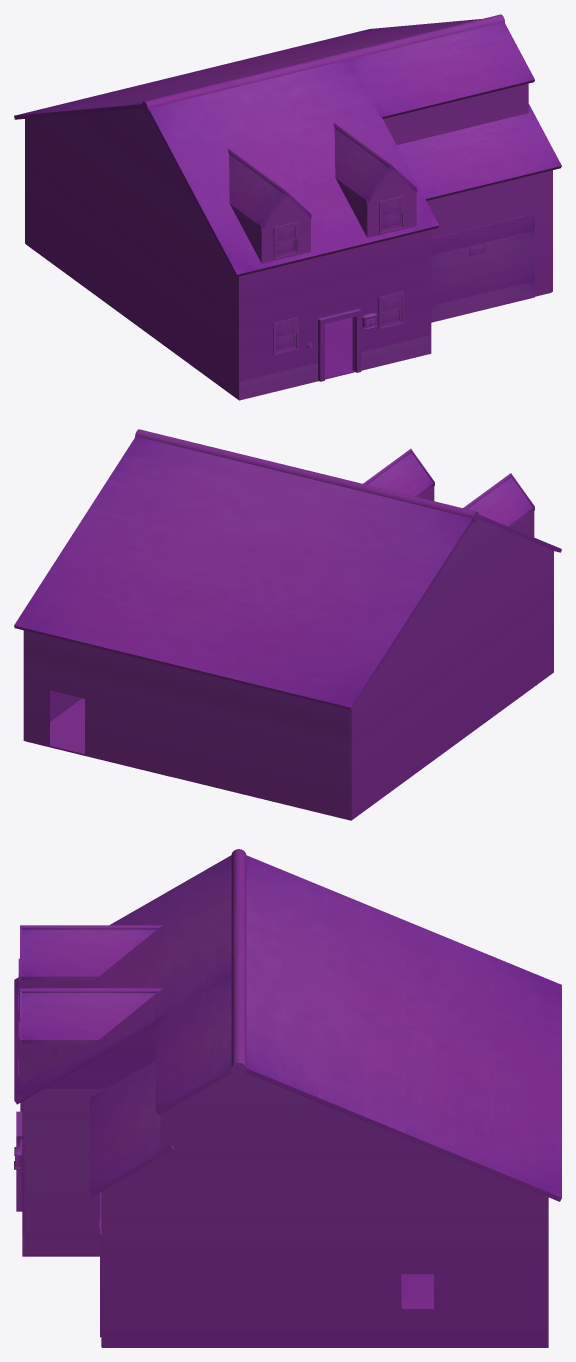
The model's file is fachada.obj.
3 views of the same model, one above another, from view 1: azimuth 30°, elevation 25°; view 2: azimuth 150°, elevation 25°; view 3: azimuth 270°, elevation 25° (orthographic). The views are drawn at different scales.
Visible parts, largest first — view 1: casa:casa:polySurface7344polySurface7697; view 2: casa:casa:polySurface7344polySurface7697; view 3: casa:casa:polySurface7344polySurface7697.
Part boxes in pixels (bbox=[...]): casa:casa:polySurface7344polySurface7697: bbox=[14, 14, 561, 400]; casa:casa:polySurface7344polySurface7697: bbox=[14, 429, 561, 820]; casa:casa:polySurface7344polySurface7697: bbox=[14, 849, 561, 1347].
Bounding box in the file's own units: 21.25 × 13.4 × 23.02.
Materials: 15 (15 with a texture image).
